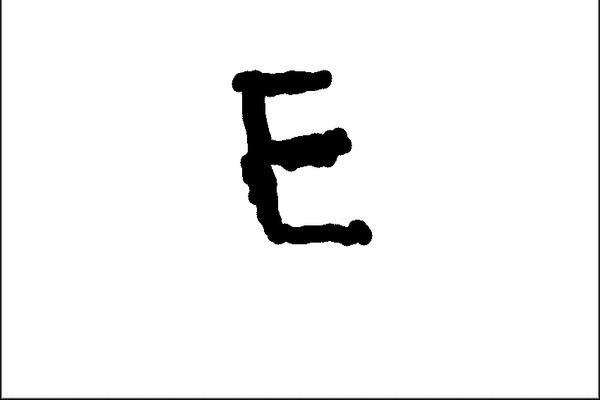E: (228, 62, 378, 253)
